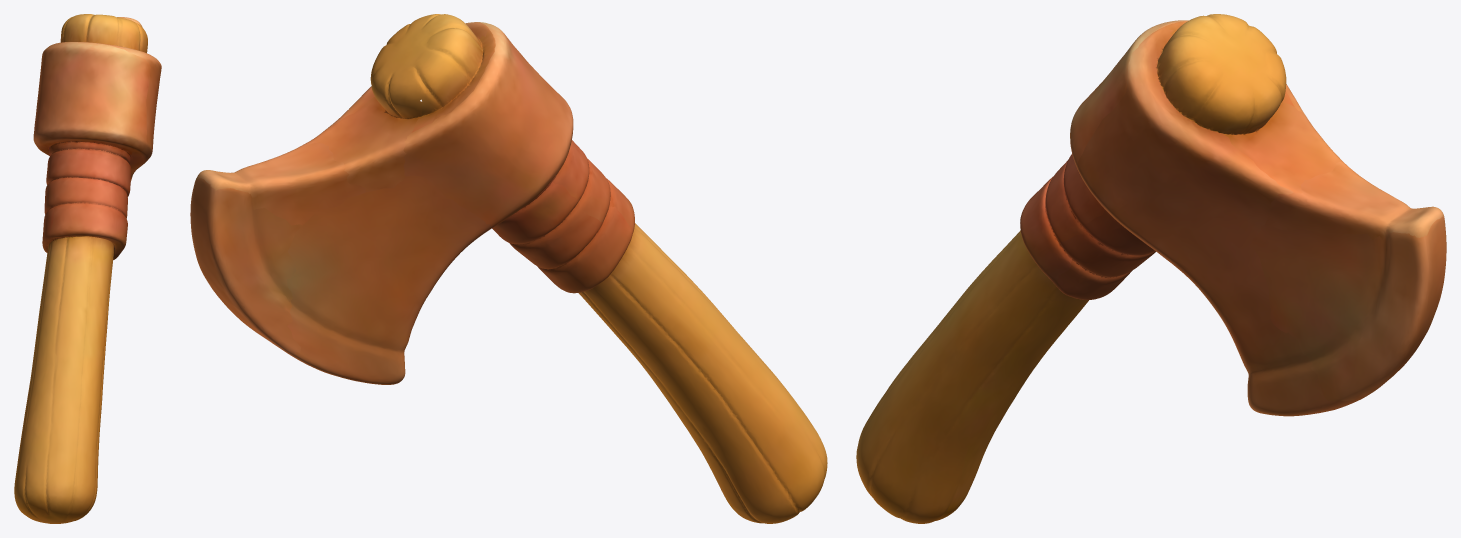
File: riu.glb
The picture shows the model from 3 angles, left to right: view 1: azimuth 30°, elevation 25°; view 2: azimuth 150°, elevation 25°; view 3: azimuth 270°, elevation 25°; orthographic projection. The views are drawn at different scales.
Size of the model in its own units: 0.2159 by 0.2821 by 0.2526.
Materials: 1 (1 with a texture image).
